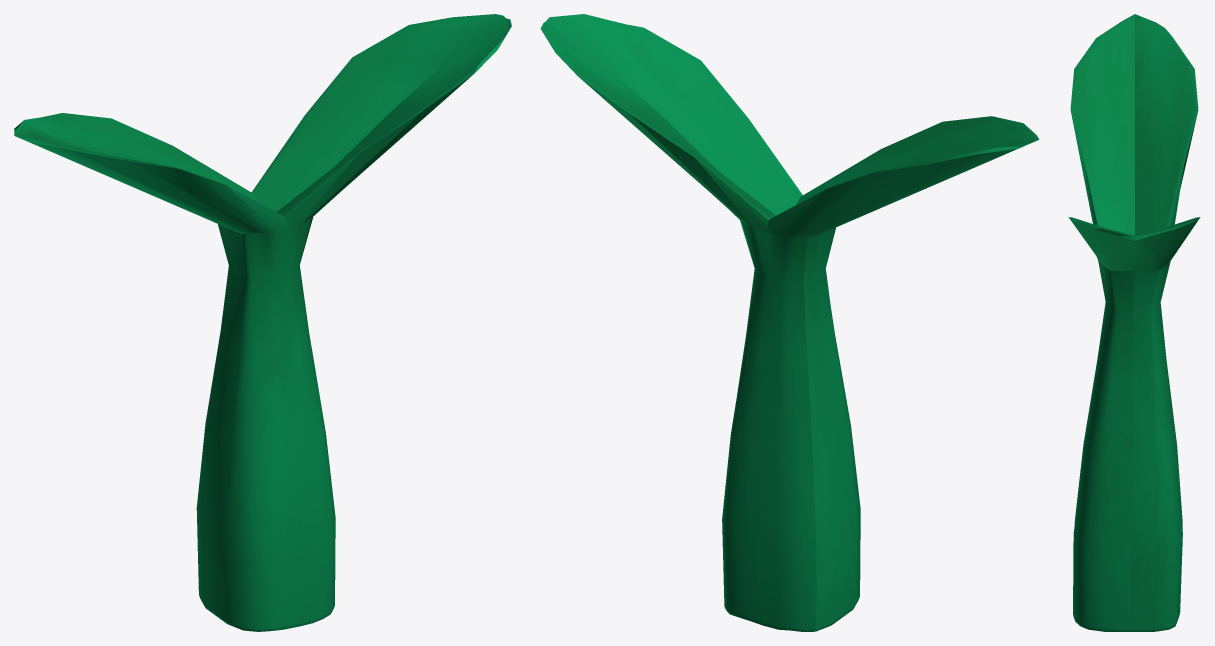
File: SM_PlantStageThree_Low.fbx
The picture shows the model from 3 angles, left to right: view 1: azimuth 30°, elevation 25°; view 2: azimuth 150°, elevation 25°; view 3: azimuth 270°, elevation 25°; orthographic projection. The views are drawn at different scales.
Visible parts, largest first — view 1: SM_PlantStageThree_Low; view 2: SM_PlantStageThree_Low; view 3: SM_PlantStageThree_Low.
Part boxes in pixels (x1,y1,x2,y2): SM_PlantStageThree_Low: (14,14,511,631); SM_PlantStageThree_Low: (540,14,1039,631); SM_PlantStageThree_Low: (1068,14,1200,631).
Bounding box in the file's own units: 2.38 × 2.44 × 0.6.
